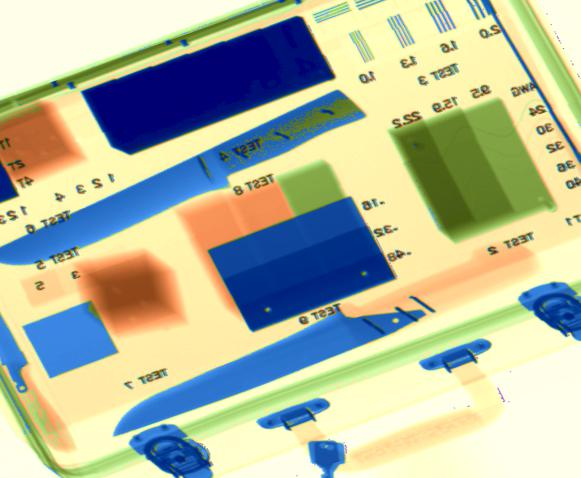Knife: (1, 91, 369, 267), (110, 285, 443, 439), (1, 311, 79, 455)
